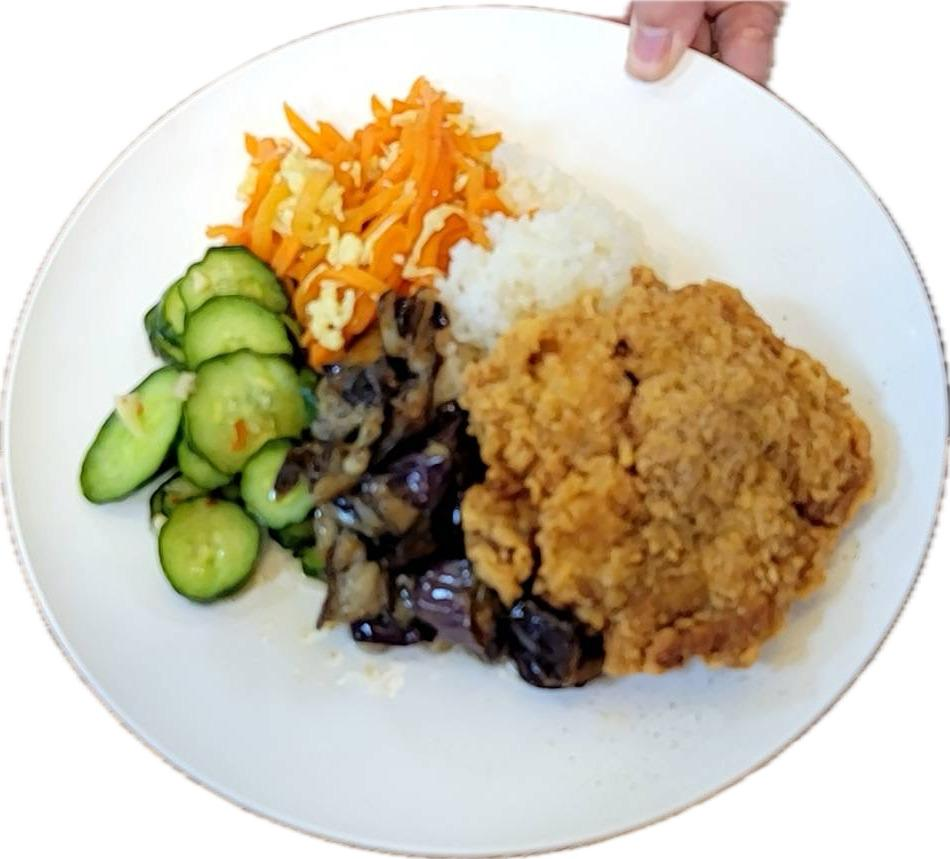big fried chicken leg: (6, 6, 950, 859)
big herbal chicken leg: (440, 148, 648, 336)
braised fish fillet: (282, 290, 611, 694), (88, 250, 328, 605), (224, 77, 504, 346)
braised pork: (448, 264, 887, 678)
